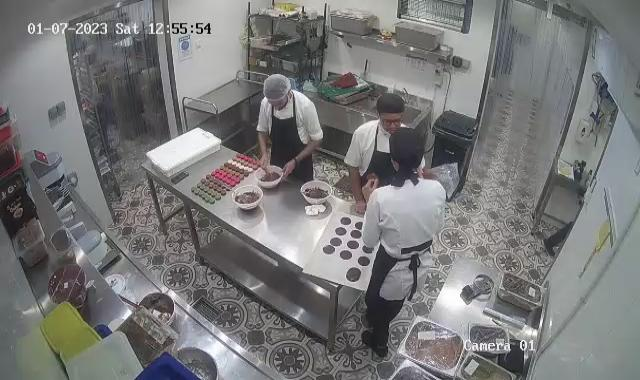hairnet: (261, 72, 294, 106)
no_hairnet: (391, 129, 424, 173), (375, 91, 406, 120)
